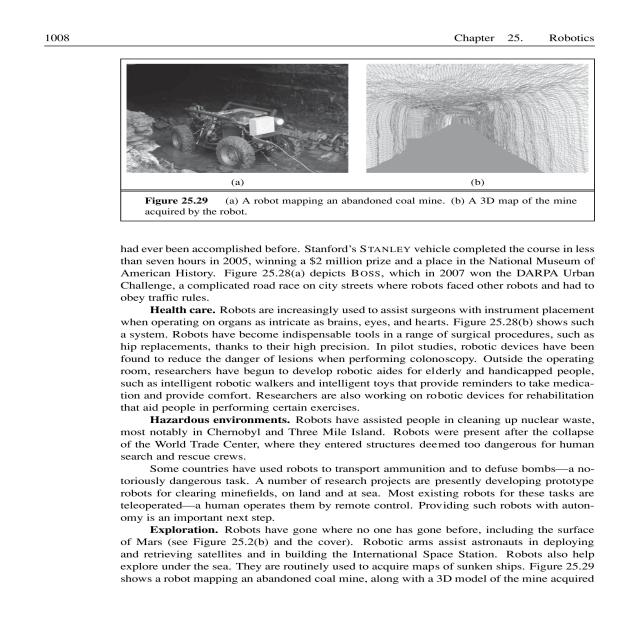diagram: (112, 56, 640, 229)
